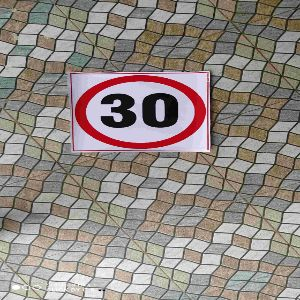speedlimit30: (71, 71, 210, 153)
